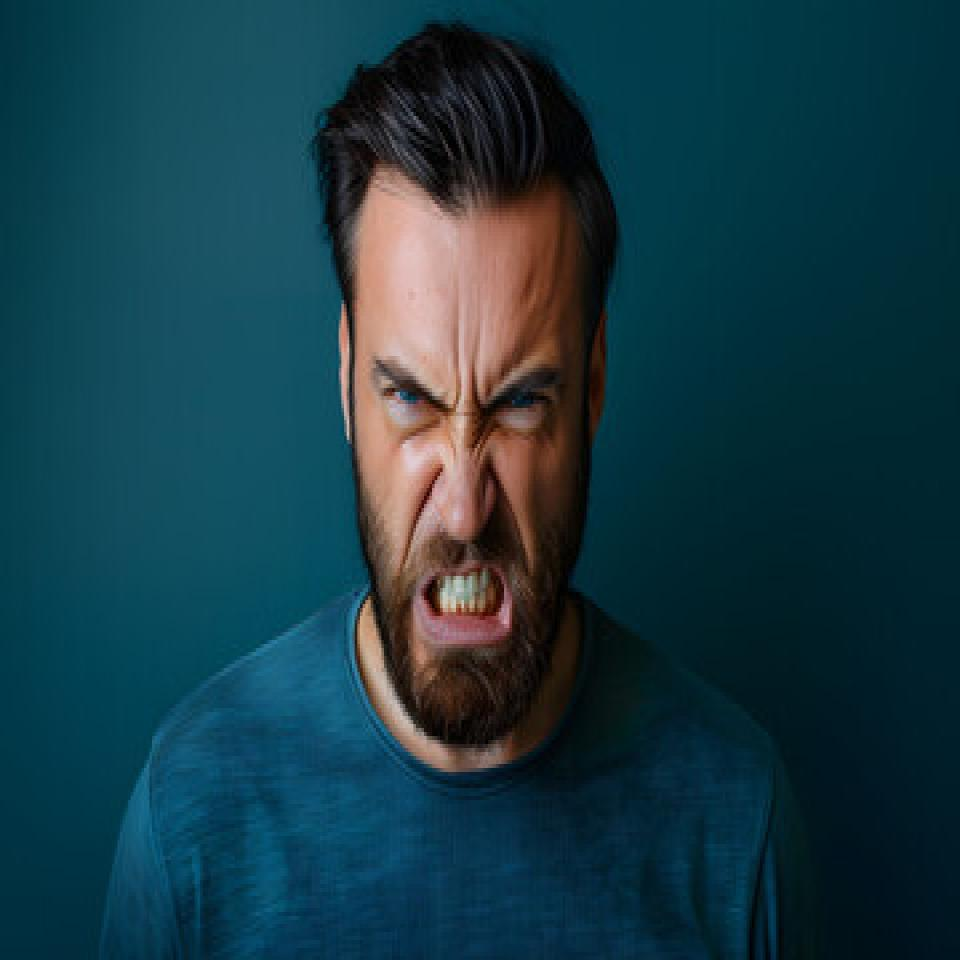Anger: (342, 150, 603, 743)
